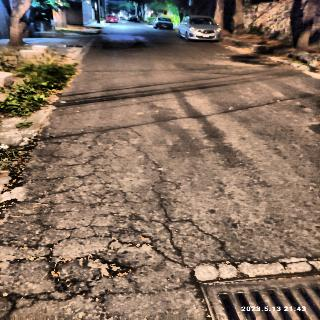alligator-crack: (0, 121, 237, 319)
